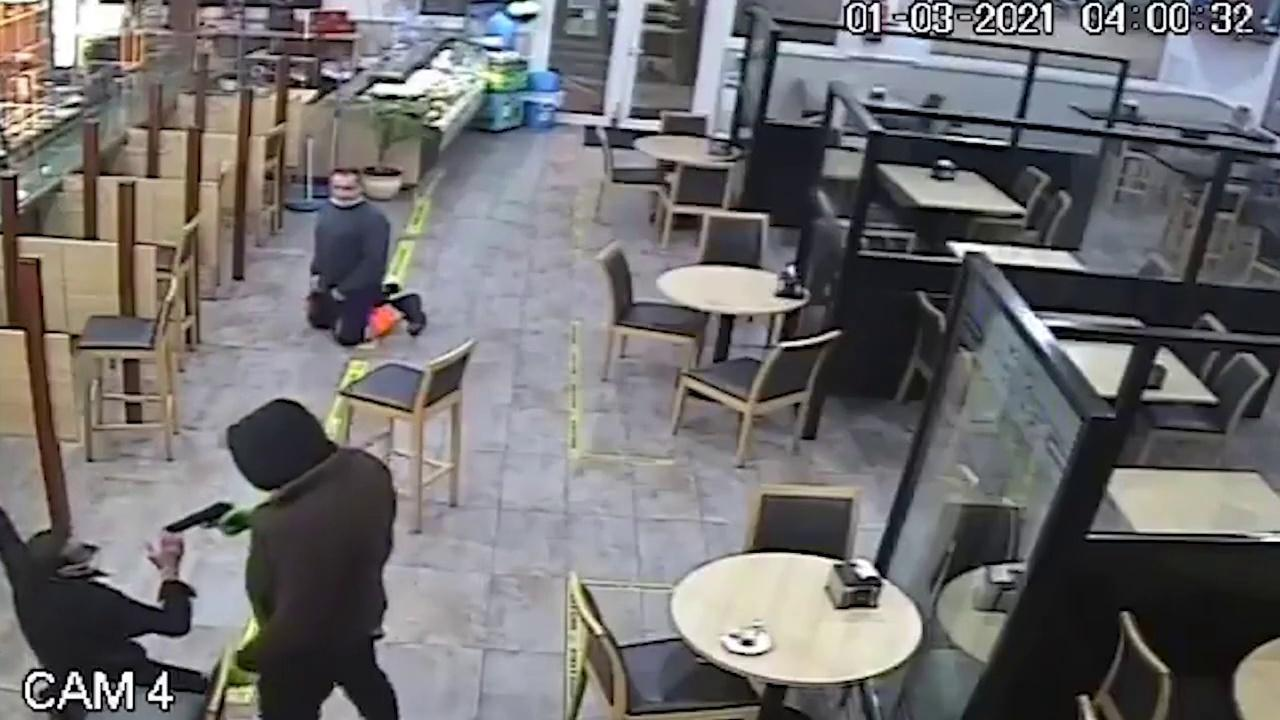Guns perspective: (142, 480, 245, 554)
